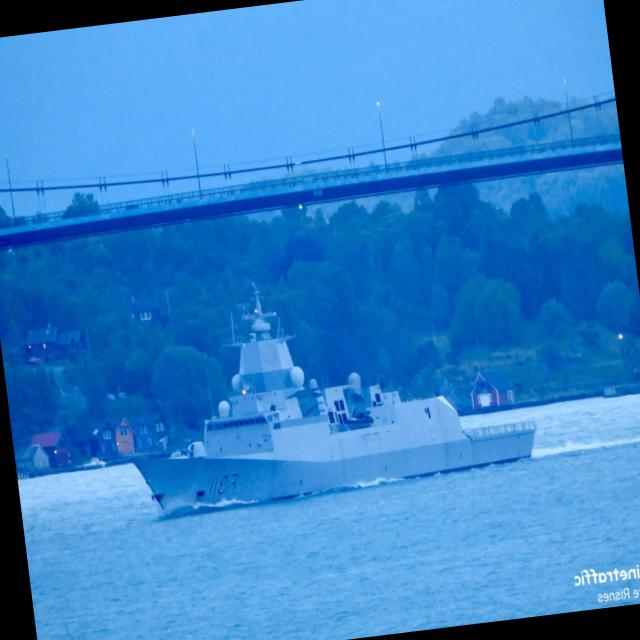Military: (131, 287, 535, 512)
